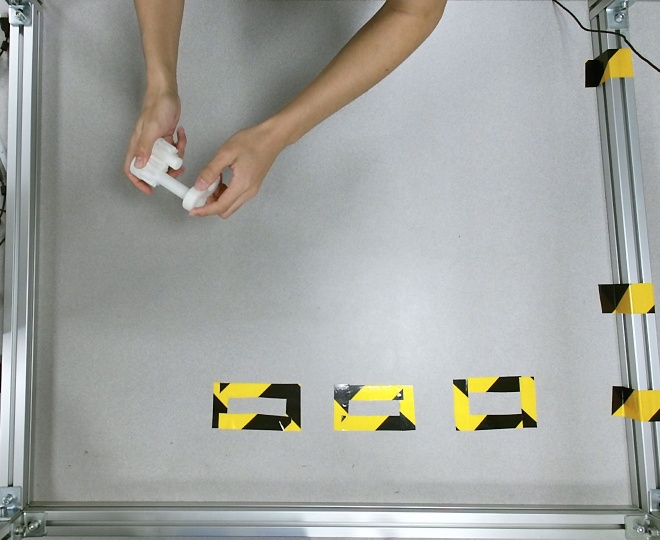stage_3: (129, 136, 222, 211)
